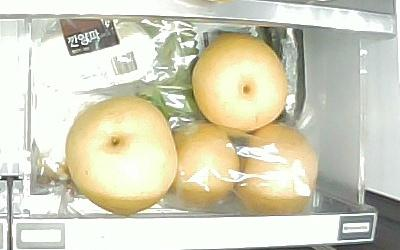pear: (65, 97, 178, 216), (191, 33, 290, 132)
pear_vinyl: (236, 125, 318, 216), (171, 124, 238, 209)
